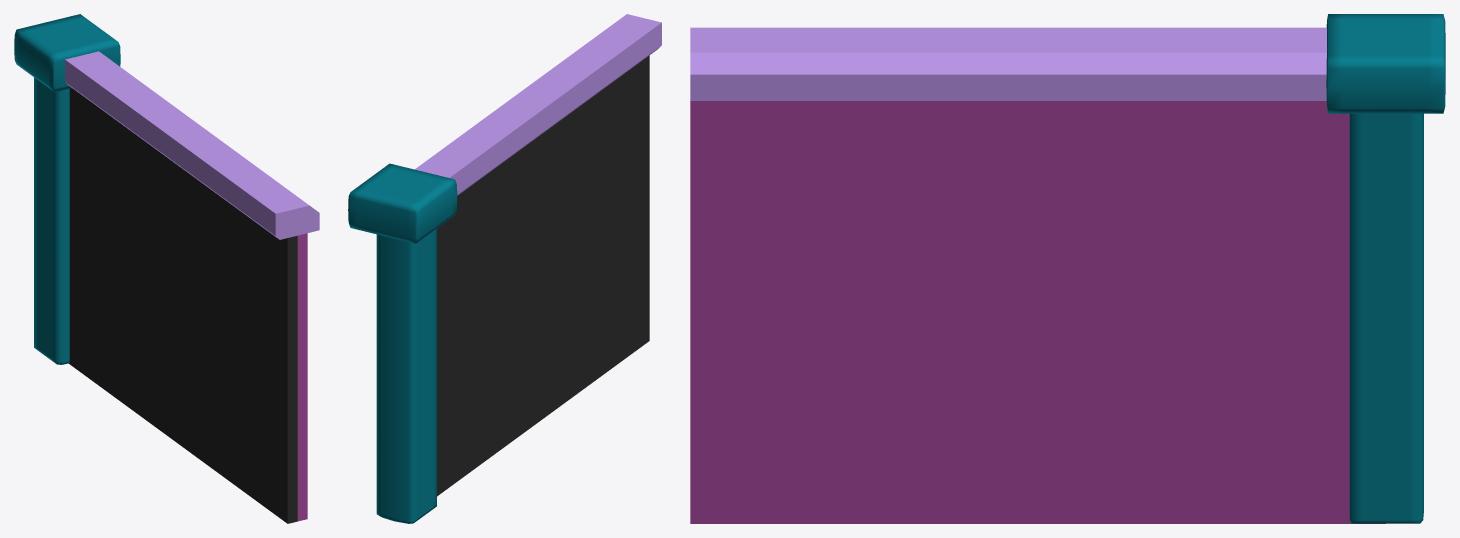
File: HalfWall.FBX
3 views of the same model, side by side, from view 1: azimuth 30°, elevation 25°; view 2: azimuth 150°, elevation 25°; view 3: azimuth 270°, elevation 25° (orthographic). The views are drawn at different scales.
Parts seen in each view (by area): view 1: Wall.int, Wall.detail, Roof ornament, Wall.out; view 2: Wall.int, Wall.detail, Roof ornament; view 3: Wall.out, Roof ornament, Wall.detail.
Part boxes in pixels (box(x1,y1,x2,y2)): Wall.int: box(69, 88, 297, 523); Wall.detail: box(14, 14, 120, 364); Roof ornament: box(65, 51, 319, 239); Wall.out: box(297, 233, 307, 521); Wall.int: box(437, 55, 649, 496); Wall.detail: box(348, 163, 457, 523); Roof ornament: box(415, 14, 661, 195); Wall.out: box(690, 101, 1385, 523); Roof ornament: box(690, 27, 1326, 100); Wall.detail: box(1326, 14, 1445, 523).
Size of the model in its own units: 66.48 by 299 by 428.
